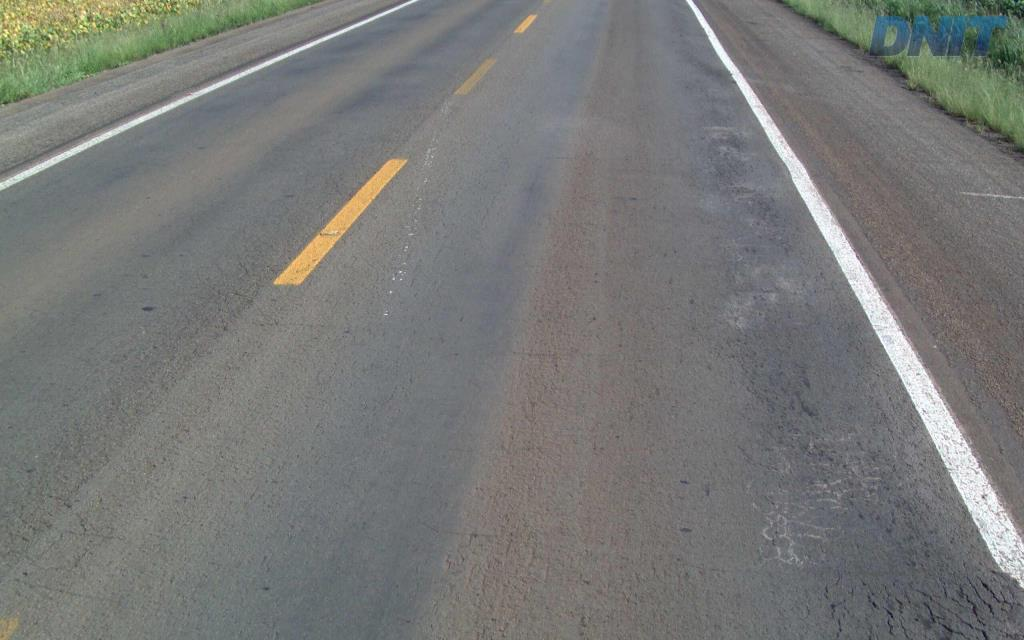crack: (914, 589, 970, 639), (951, 574, 986, 627)
